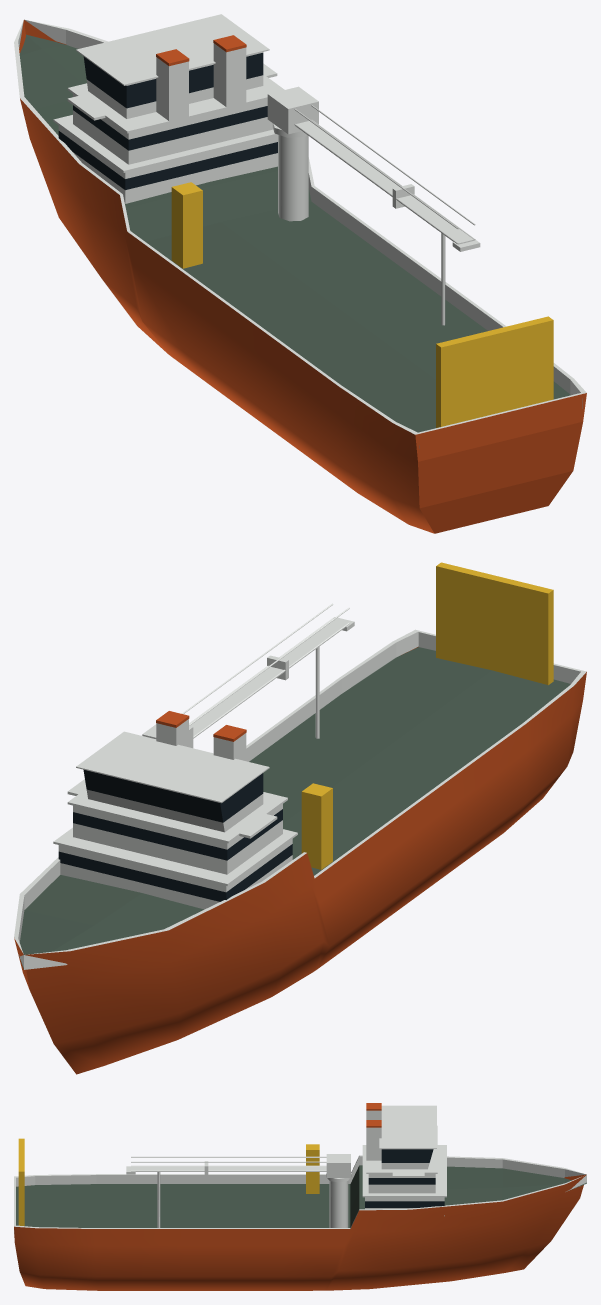
Rendered from offshore_service_LOD2.glb.
3 renders of one model, top to bottom at view 1: azimuth 30°, elevation 25°; view 2: azimuth 150°, elevation 25°; view 3: azimuth 270°, elevation 25°, orthographic. The views are drawn at different scales.
Visible parts, largest first — view 1: Hull, Deck, Superstructure, Crane, Windows; view 2: Hull, Deck, Superstructure, Crane, Windows; view 3: Hull, Deck, Superstructure, Windows, Crane.
Part boxes in pixels (box(x1,y1,x2,y2)): Hull: box(19, 20, 586, 533); Deck: box(19, 34, 570, 432); Superstructure: box(14, 14, 586, 448); Crane: box(171, 182, 553, 427); Windows: box(58, 53, 277, 190); Hull: box(14, 646, 586, 1074); Deck: box(19, 647, 570, 969); Superstructure: box(14, 603, 586, 969); Crane: box(301, 562, 553, 869); Windows: box(58, 769, 292, 901); Hull: box(14, 1103, 586, 1290); Deck: box(16, 1165, 586, 1227); Superstructure: box(14, 1105, 586, 1233); Windows: box(365, 1149, 444, 1207); Crane: box(18, 1138, 319, 1226).
Size of the model in its own units: 17 by 22.38 by 75.
